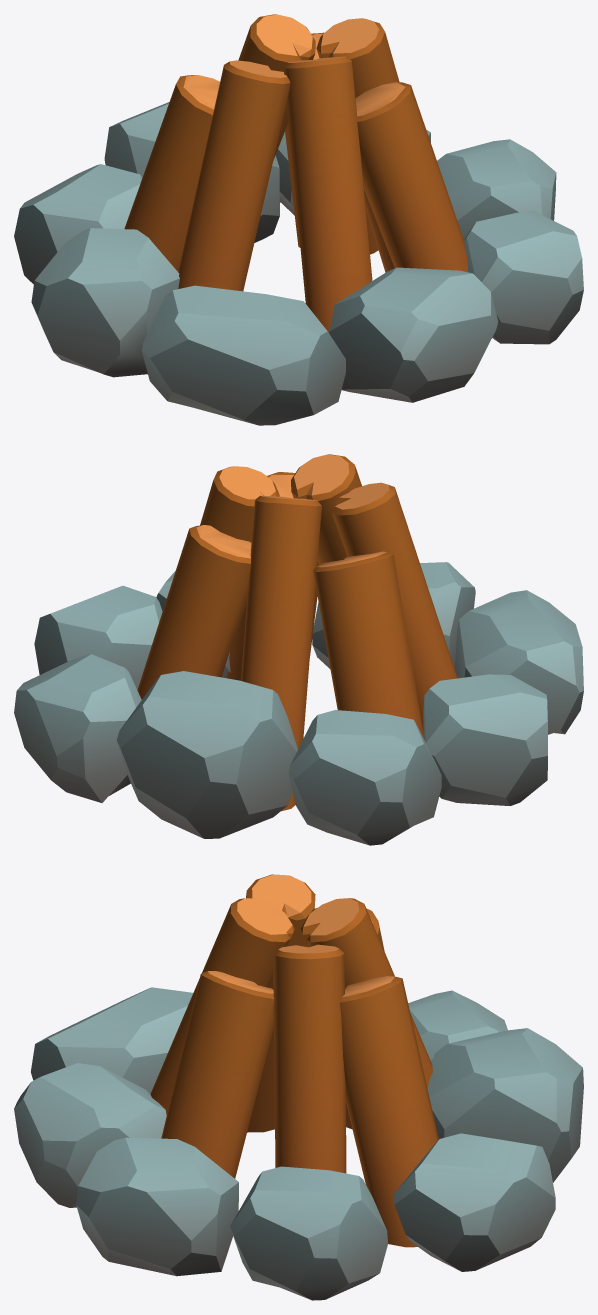
Rendered from Bonfire.fbx.
3 renders of one model, top to bottom at view 1: azimuth 30°, elevation 25°; view 2: azimuth 150°, elevation 25°; view 3: azimuth 270°, elevation 25°, orthographic. The views are drawn at different scales.
Parts seen in each view (by area): view 1: Bonfire; view 2: Bonfire; view 3: Bonfire.
Boxes of the visible parts, x1=… form: Bonfire: x1=14, y1=14, x2=583, y2=425; Bonfire: x1=14, y1=454, x2=583, y2=845; Bonfire: x1=14, y1=874, x2=583, y2=1300.
Bounding box in the file's own units: 159 × 79.8 × 149.
